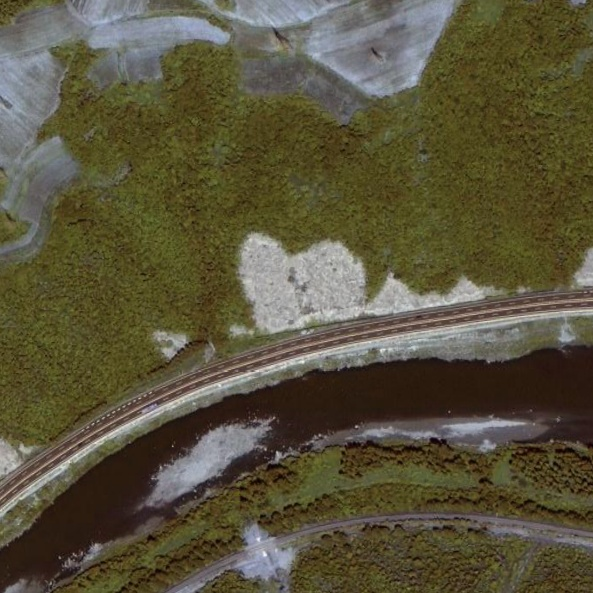slope: (230, 228, 488, 333), (0, 436, 39, 479), (147, 322, 192, 357), (574, 248, 592, 290)
